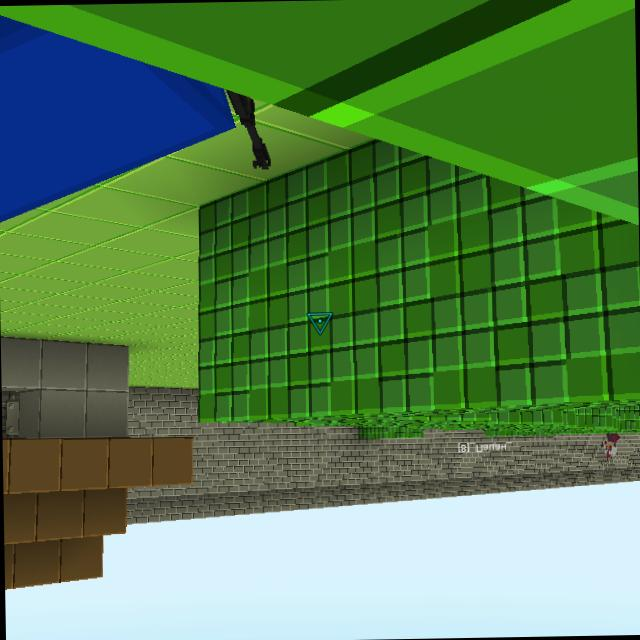enemy: (600, 433, 620, 458)
